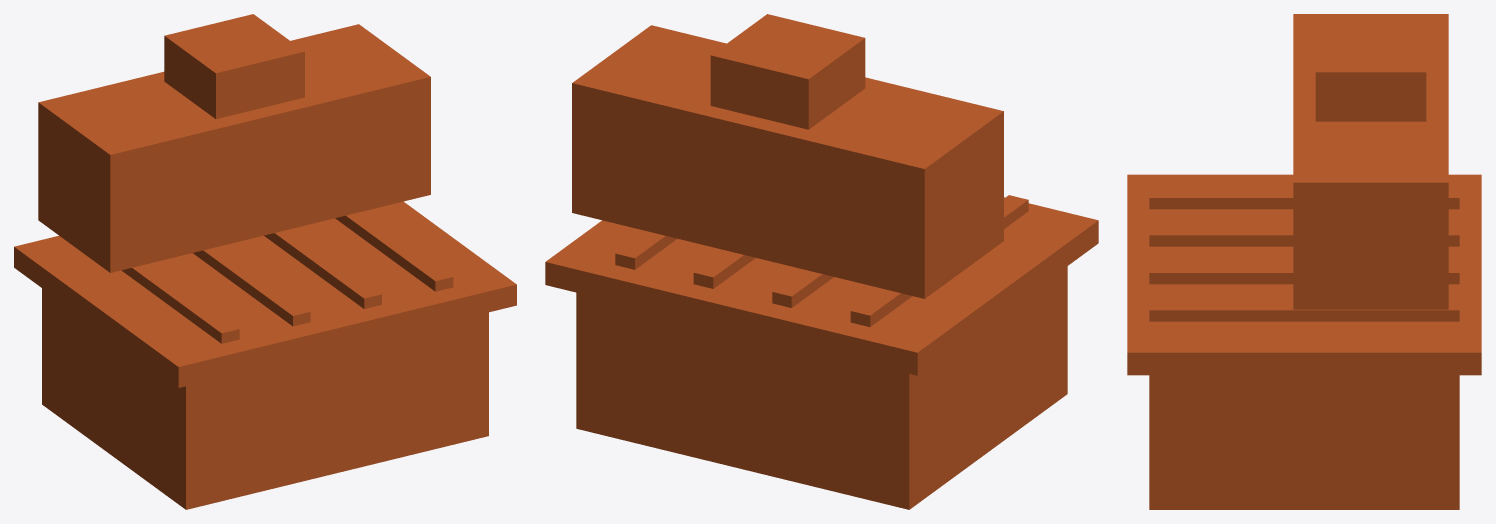
File: grill.glb
3 views of the same model, side by side, from view 1: azimuth 30°, elevation 25°; view 2: azimuth 150°, elevation 25°; view 3: azimuth 270°, elevation 25° (orthographic). The views are drawn at different scales.
Visible parts, largest first — view 1: module.grill; view 2: module.grill; view 3: module.grill.
Part boxes in pixels (x1,y1,x2,y2): module.grill: (14, 14, 516, 509); module.grill: (545, 14, 1098, 509); module.grill: (1127, 14, 1481, 509).
Size of the model in its own units: 1 by 1 by 0.8421.
